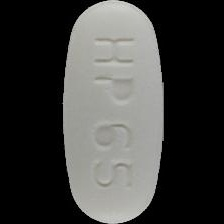51655-190: (0, 0, 224, 224)
